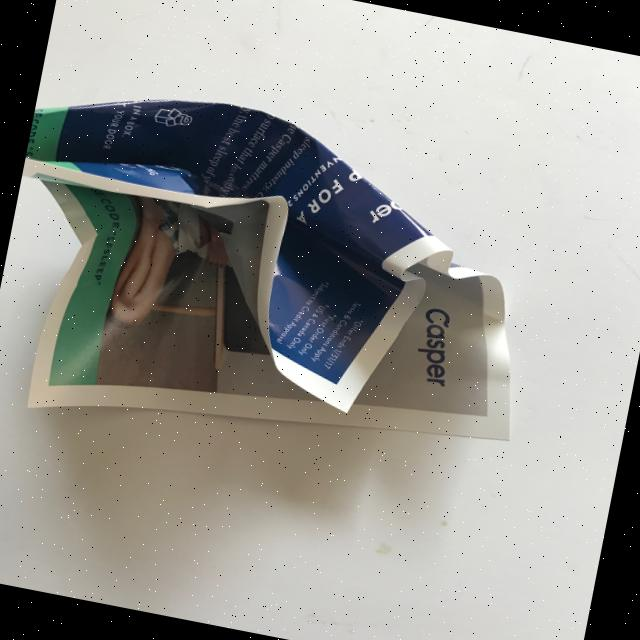paper: (0, 66, 563, 499)
